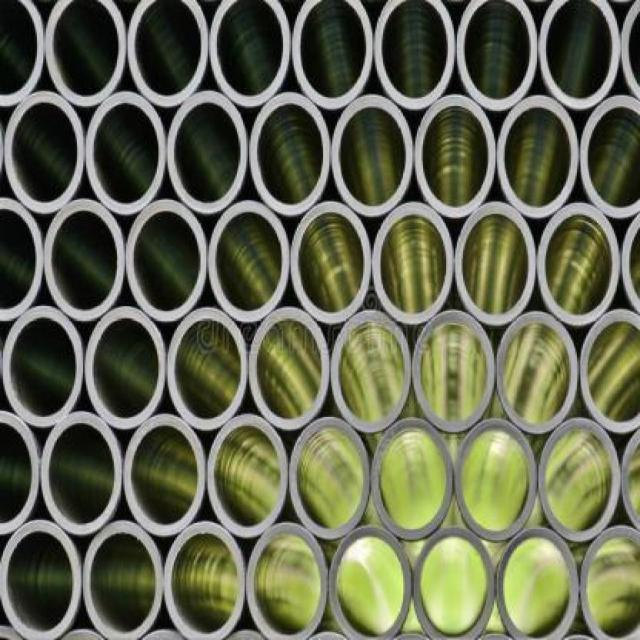pipe: (371, 417, 453, 542), (455, 418, 537, 543), (85, 91, 167, 215), (331, 94, 413, 218), (498, 94, 580, 218), (415, 95, 497, 219), (248, 307, 330, 431), (413, 309, 495, 433), (41, 411, 123, 535), (455, 203, 537, 326), (538, 203, 620, 326), (207, 415, 289, 538), (538, 418, 620, 541), (44, 199, 126, 321), (126, 199, 208, 321), (372, 202, 454, 324), (2, 305, 84, 427), (497, 312, 579, 434), (124, 415, 206, 537), (289, 417, 371, 539), (167, 90, 247, 215), (250, 93, 330, 217), (85, 306, 165, 430), (208, 201, 290, 321), (290, 202, 372, 322), (331, 310, 411, 433), (5, 92, 85, 214), (167, 308, 247, 430), (0, 520, 82, 639), (163, 522, 246, 639), (329, 525, 414, 639), (245, 522, 327, 639), (83, 522, 163, 639), (496, 527, 579, 639), (413, 527, 496, 639), (291, 0, 374, 110), (456, 0, 538, 111), (539, 0, 621, 110), (374, 0, 456, 110), (128, 0, 209, 108), (45, 0, 127, 106), (209, 0, 291, 106), (580, 95, 639, 219), (580, 310, 639, 434), (579, 525, 639, 639), (0, 198, 43, 318), (0, 411, 40, 536), (0, 0, 46, 108)
